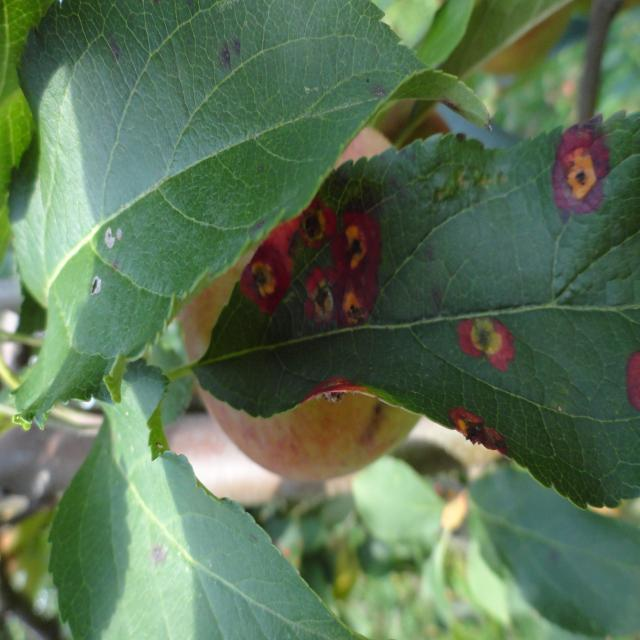rust: (6, 0, 490, 433), (192, 109, 639, 512)
